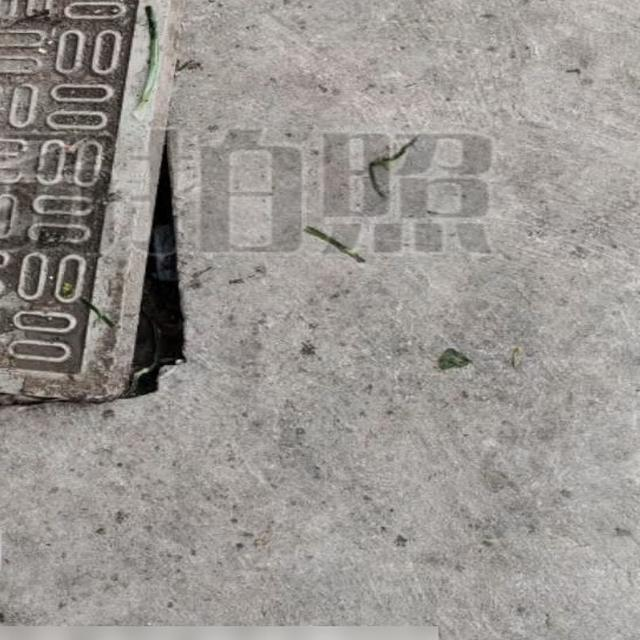uncovered: (0, 0, 244, 426)
